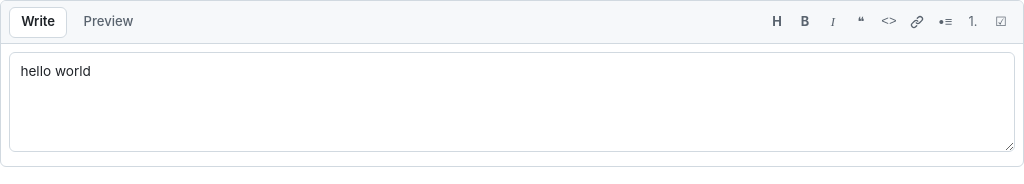
MarkdownComposer › bold toolbar button wraps the selection and re-selects the wrapped text
The width and height of the screenshot is (1024, 184).
Click the button named "Bold".
click(805, 22)  # box [791,8,819,36]
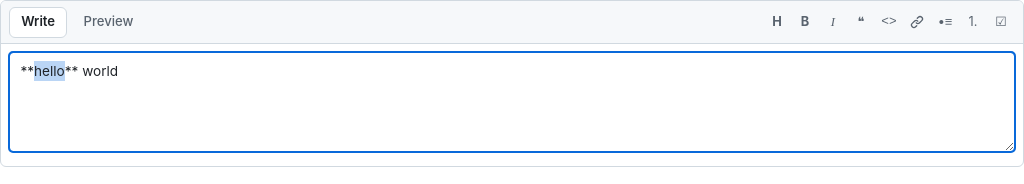
Result: the text box named "Comment body" holds "**hello** world" at [9,52,1015,152]
Applying it again toggles the wrapping back off.
Click the button named "Bold".
click(805, 22)  # box [791,8,819,36]
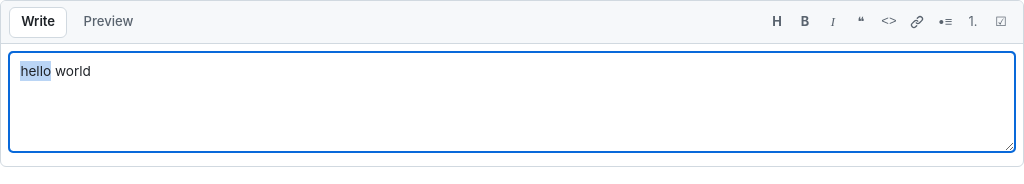
Result: the text box named "Comment body" holds "hello world" at [9,52,1015,152]
